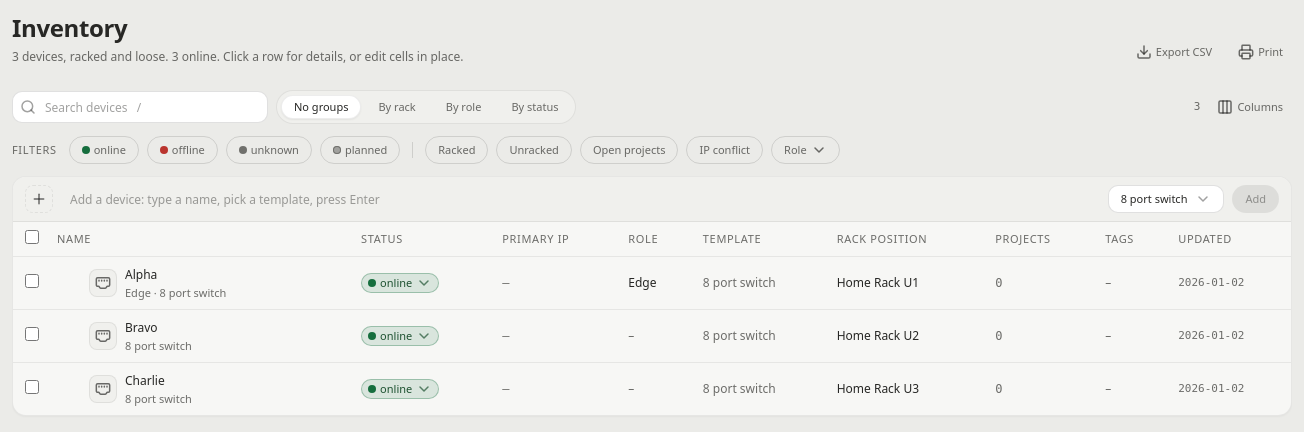
Inventory inline editing › saves a cell through PATCH /devices/:id and shows the new value
Click the button named "Role of Bravo".
click(631, 336)  # box [624,324,638,348]
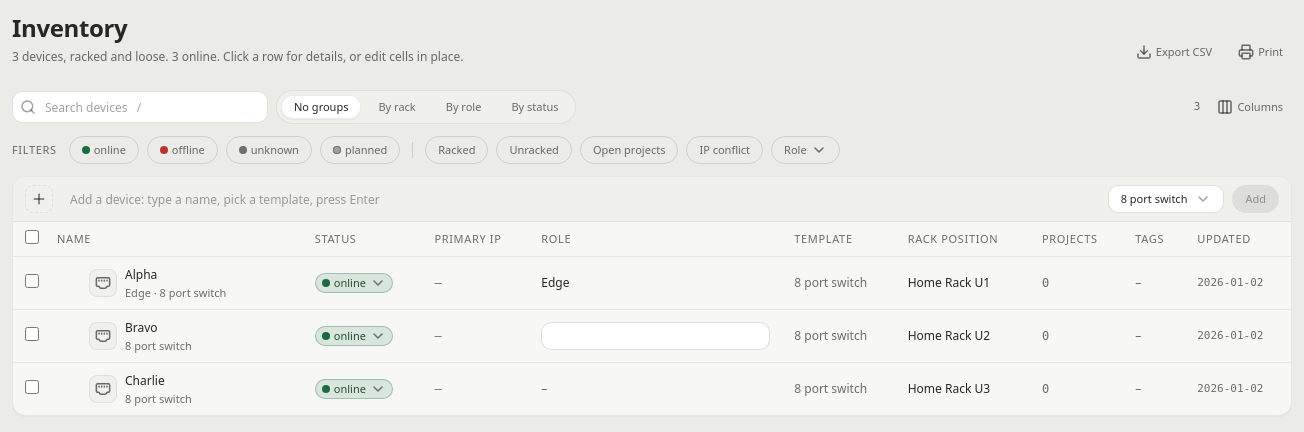
Type "Core" into the field named "Role of Bravo".
click(656, 336); type("Core")  # box [541,322,770,350]
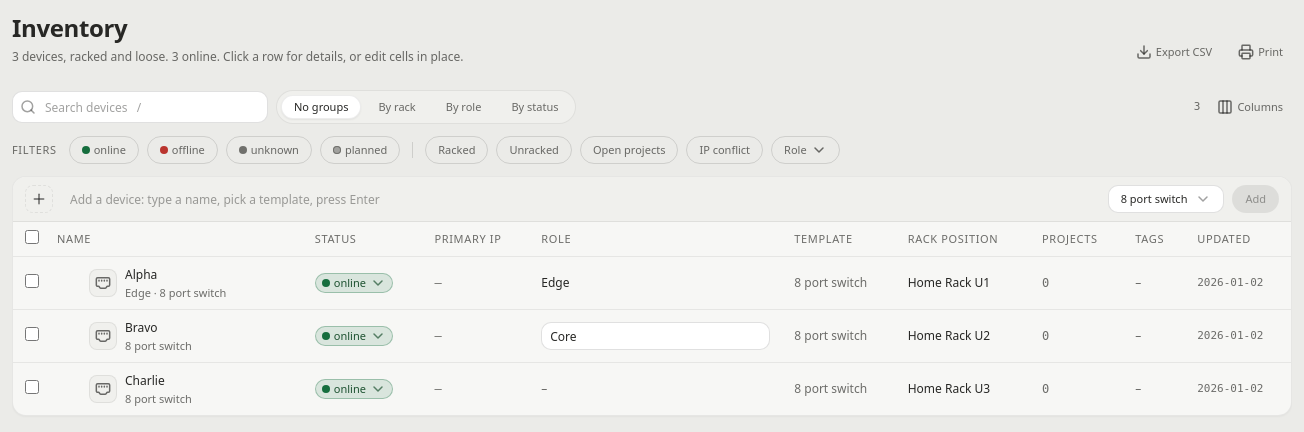
Press Enter in the field named "Role of Bravo", box [541,322,770,350]
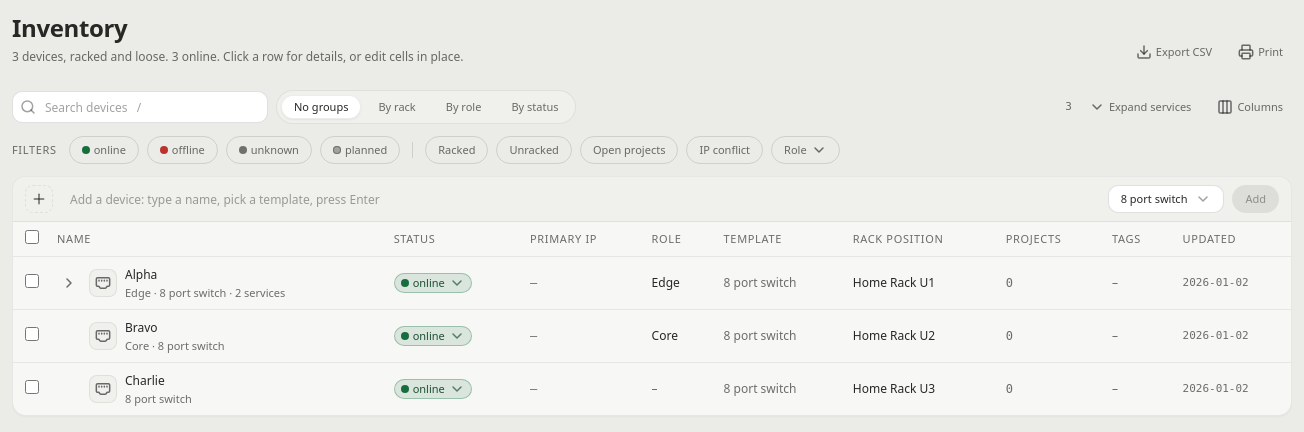
Result: the button with aria-label "Role of Bravo: Core" is shown at [648,324,682,348]
